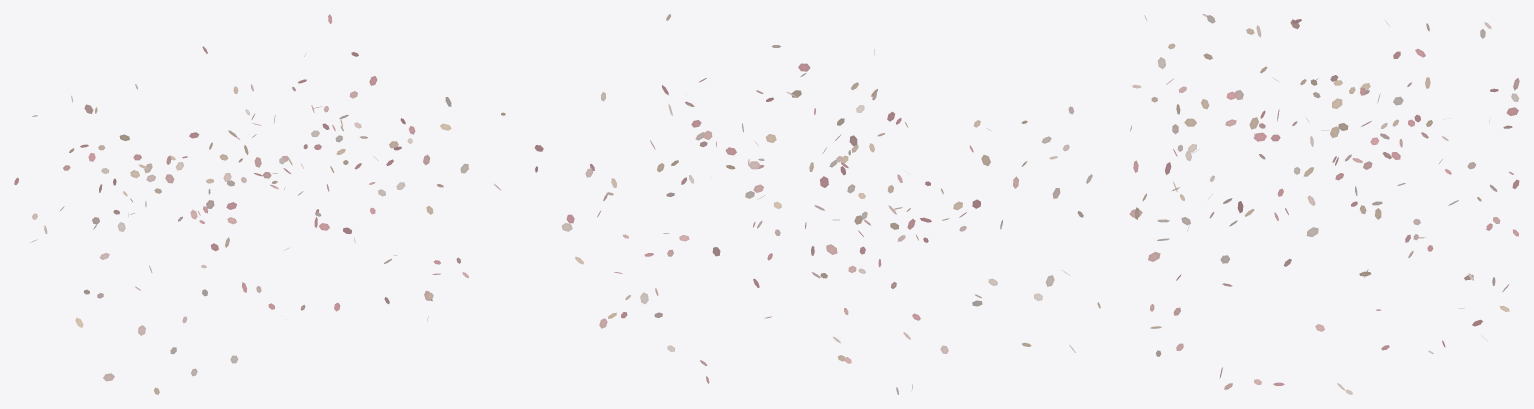
File: petals_A_v15.glb
3 views of the same model, side by side, from view 1: azimuth 30°, elevation 25°; view 2: azimuth 150°, elevation 25°; view 3: azimuth 270°, elevation 25° (orthographic). The views are drawn at different scales.
Parts seen in each view (by area): view 1: petals; view 2: petals; view 3: petals.
Boxes of the visible parts, left/top/right/bottom form: petals: left=14, top=14, right=505, bottom=394; petals: left=534, top=14, right=1100, bottom=394; petals: left=1129, top=14, right=1519, bottom=394.
Size of the model in its own units: 1.94 by 0.9425 by 1.48.
